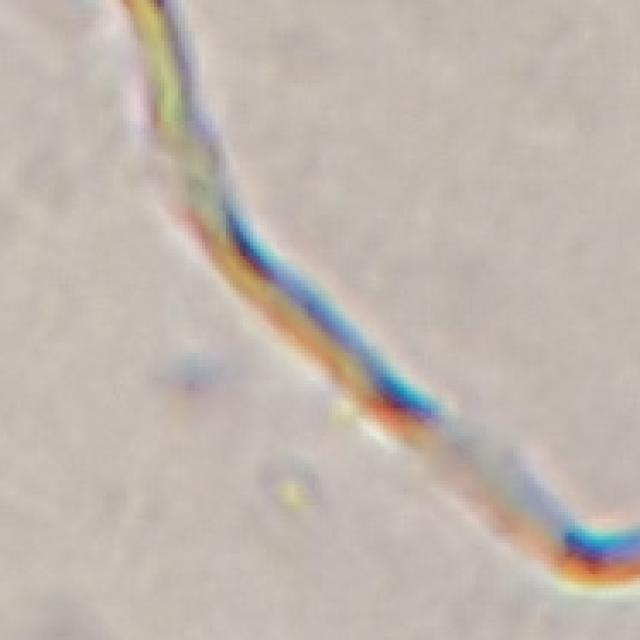non-sperm: (113, 6, 640, 604)
